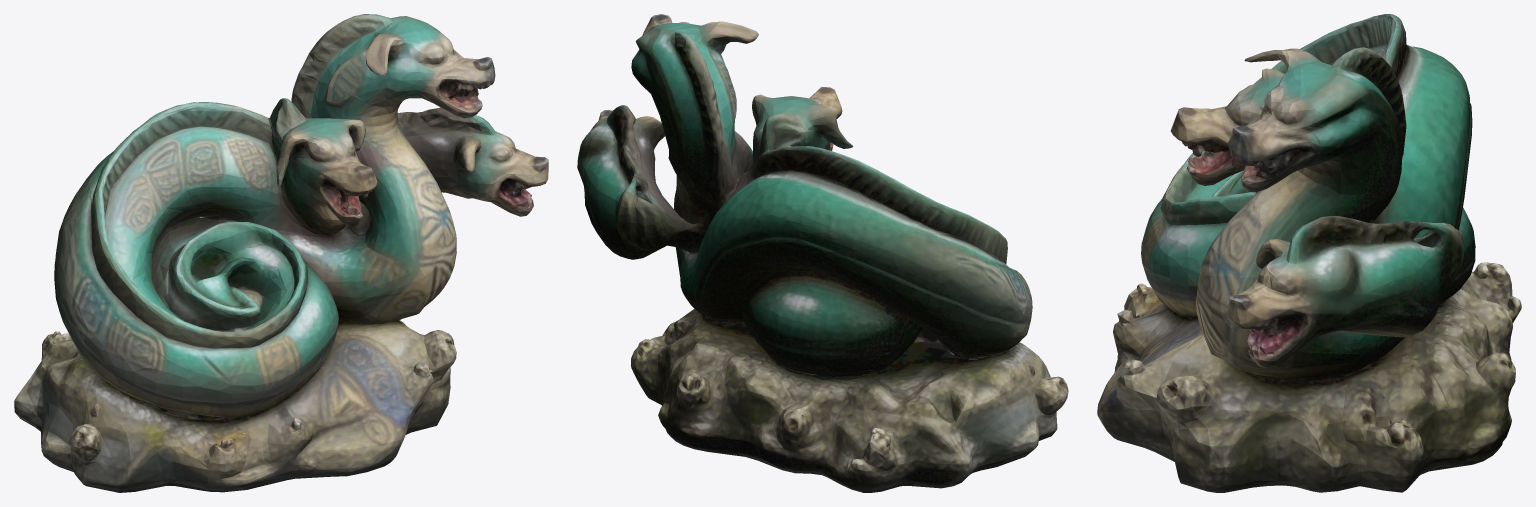
File: brinegrave.glb
3 views of the same model, side by side, from view 1: azimuth 30°, elevation 25°; view 2: azimuth 150°, elevation 25°; view 3: azimuth 270°, elevation 25° (orthographic). The views are drawn at different scales.
Parts seen in each view (by area): view 1: world; view 2: world; view 3: world.
Boxes of the visible parts, bbox=[...] form: world: bbox=[14, 14, 548, 492]; world: bbox=[577, 14, 1068, 492]; world: bbox=[1097, 14, 1521, 492].
Size of the model in its own units: 0.9999 by 0.72 by 0.6386.
1 material, 1 textured.
